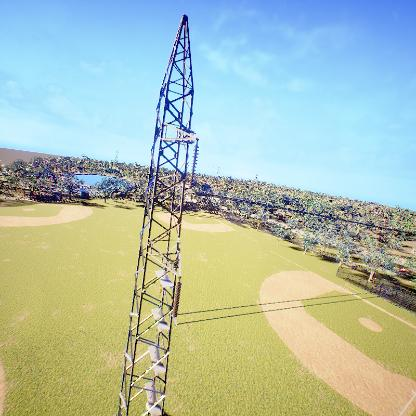tower: (115, 8, 200, 412)
